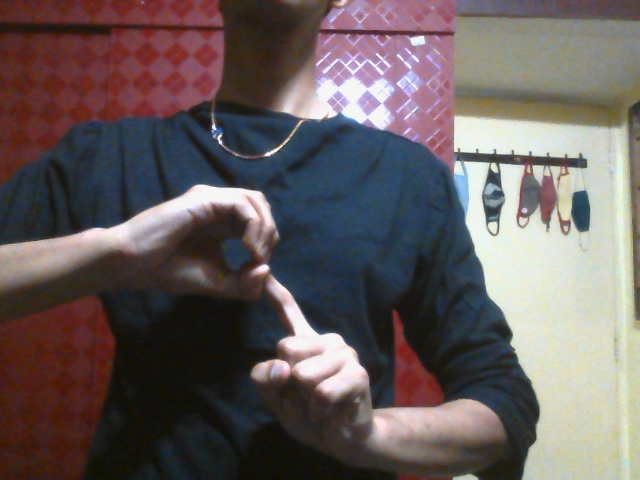Q: (136, 184, 373, 457)
